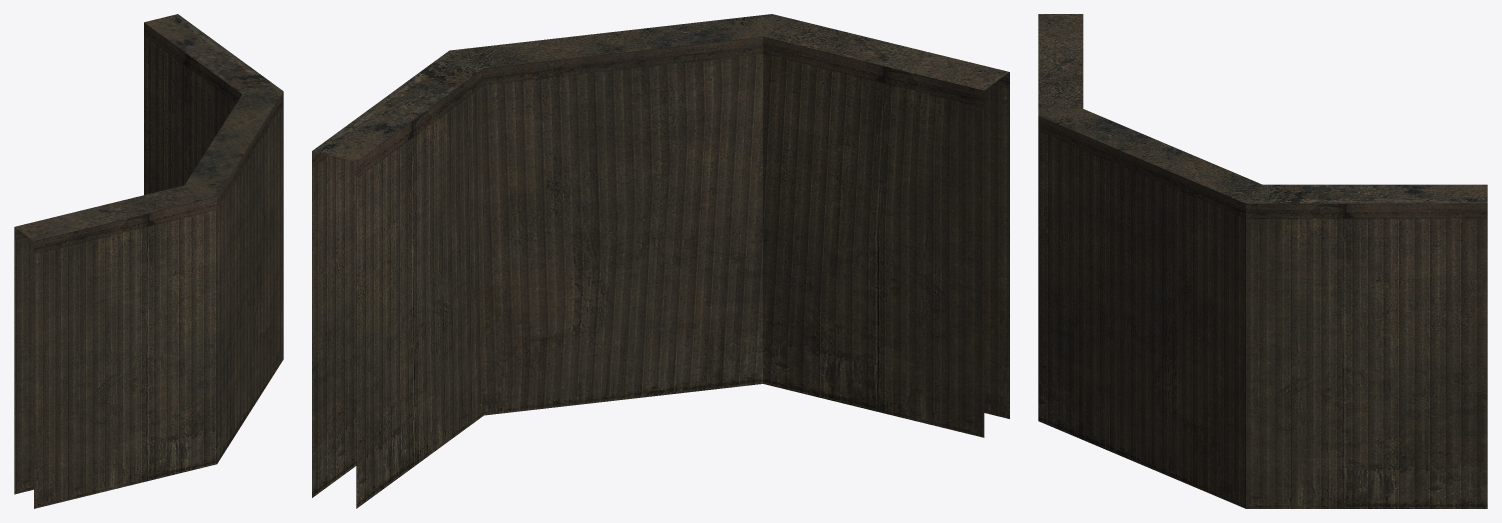
Rendered from wall_rx_1_m2a_1.obj.
The picture shows the model from 3 angles, left to right: view 1: azimuth 30°, elevation 25°; view 2: azimuth 150°, elevation 25°; view 3: azimuth 270°, elevation 25°; orthographic projection. The views are drawn at different scales.
Parts seen in each view (by area): view 1: wall_rx_1_m2a_1; view 2: wall_rx_1_m2a_1; view 3: wall_rx_1_m2a_1.
Boxes of the visible parts, bbox=[...] form: wall_rx_1_m2a_1: bbox=[14, 14, 283, 508]; wall_rx_1_m2a_1: bbox=[312, 14, 1009, 508]; wall_rx_1_m2a_1: bbox=[1038, 14, 1487, 508].
Size of the model in its own units: 4 by 3 by 4.
